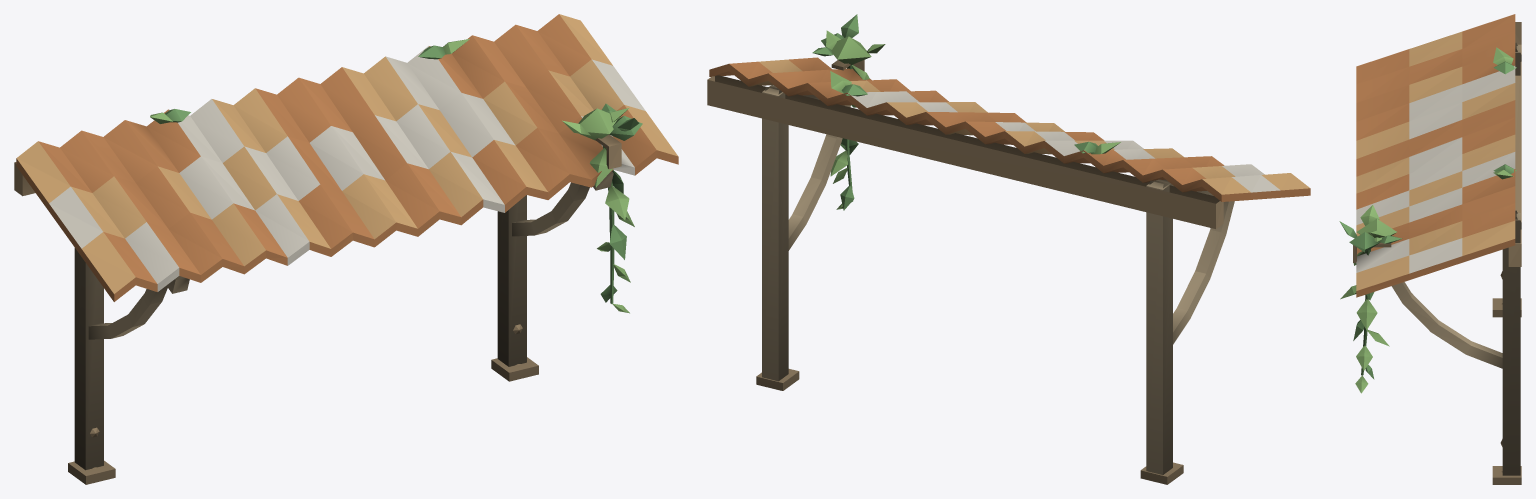
The model's file is awning.glb.
3 renders of one model, left to right at view 1: azimuth 30°, elevation 25°; view 2: azimuth 150°, elevation 25°; view 3: azimuth 270°, elevation 25°, orthographic. The views are drawn at different scales.
Visible parts, largest first — view 1: awning; view 2: awning; view 3: awning.
Boxes of the visible parts, x1,y1,x2,y2 form: awning: (14,14,678,484); awning: (707,14,1310,484); awning: (1339,14,1521,484).
Bounding box in the file's own units: 4 × 2.37 × 1.38.
